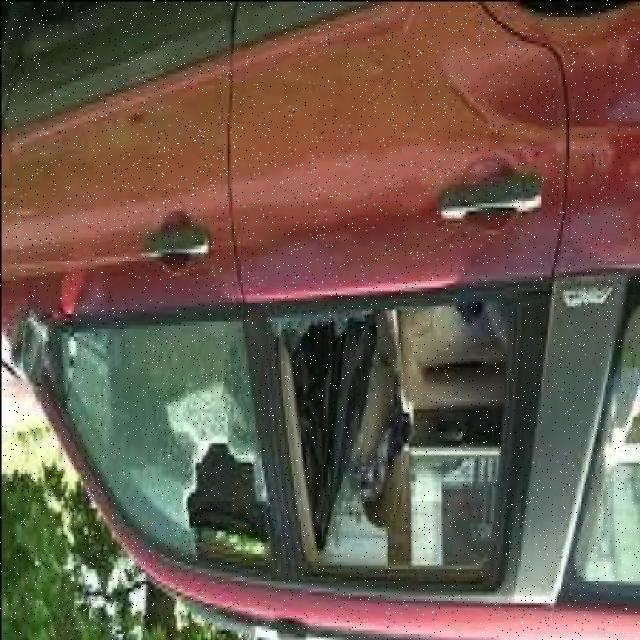damage: (27, 286, 540, 605)
